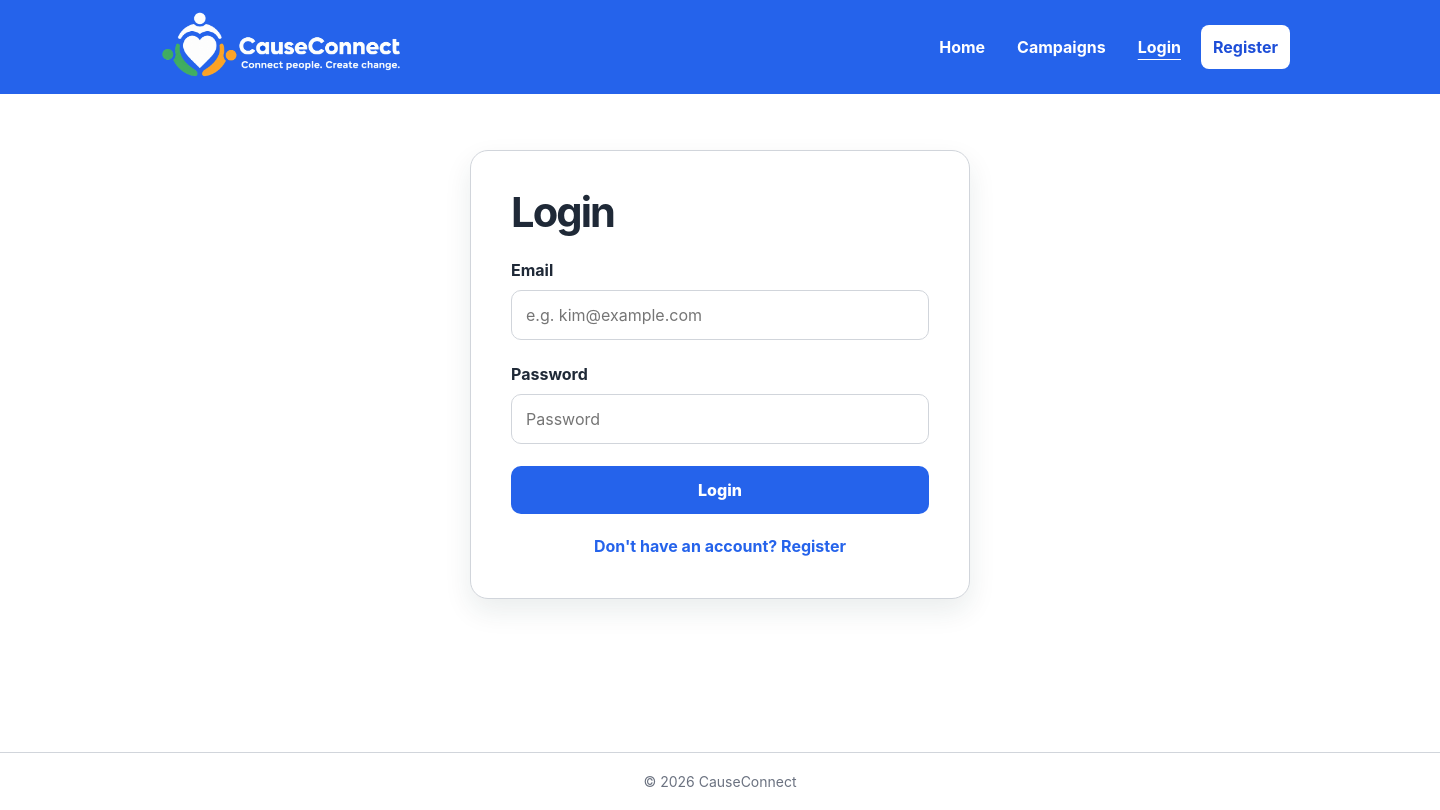
Test: CauseConnect login page › does not restore a delayed guest login after queued cross-tab login and logout changes
This screenshot has width=1440, height=810.
Type "sam@example.test" into the field labelled "Email" at (720, 315), box [511,290,929,340]
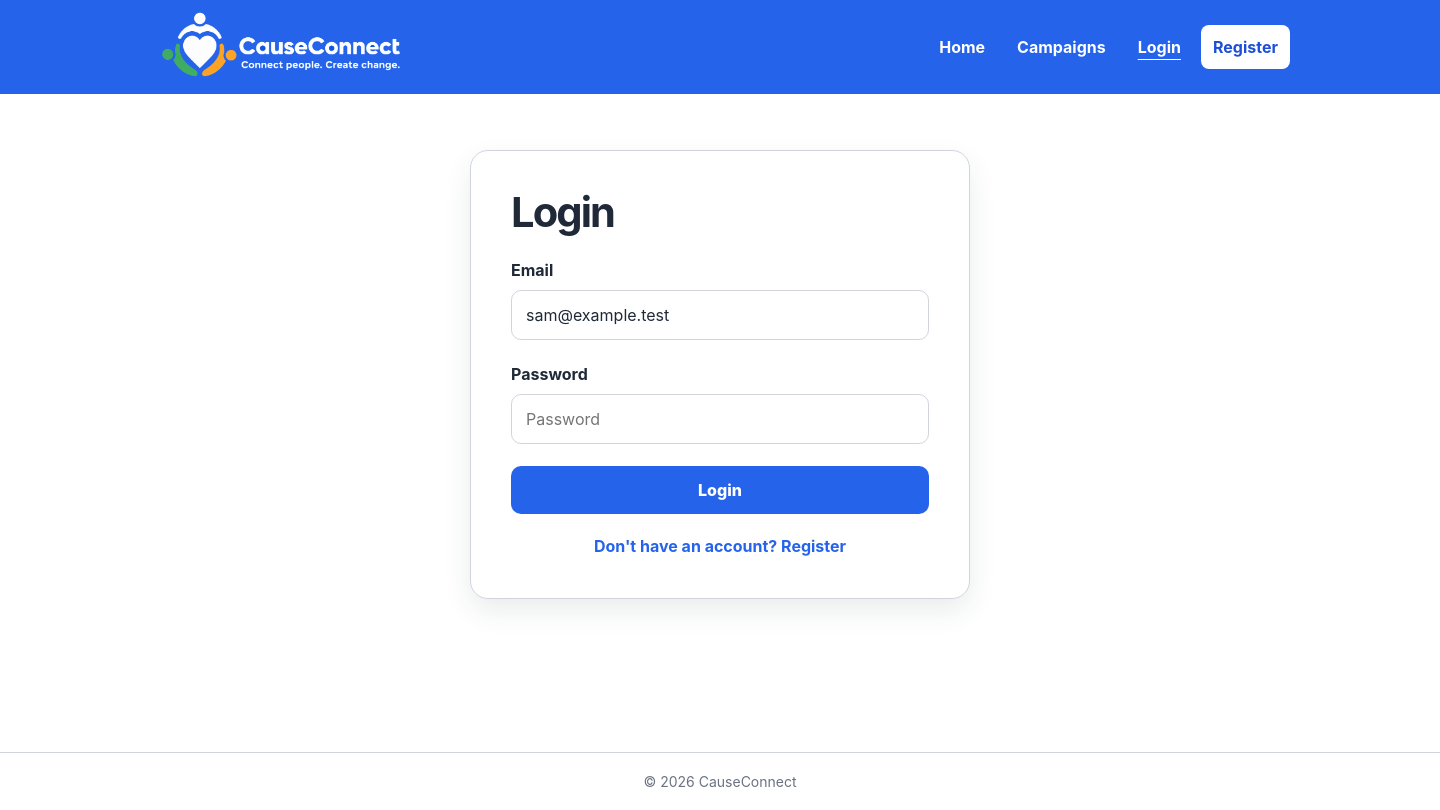
Type "Password123!" into the password field labelled "Password" at (720, 419), box [511,394,929,444]
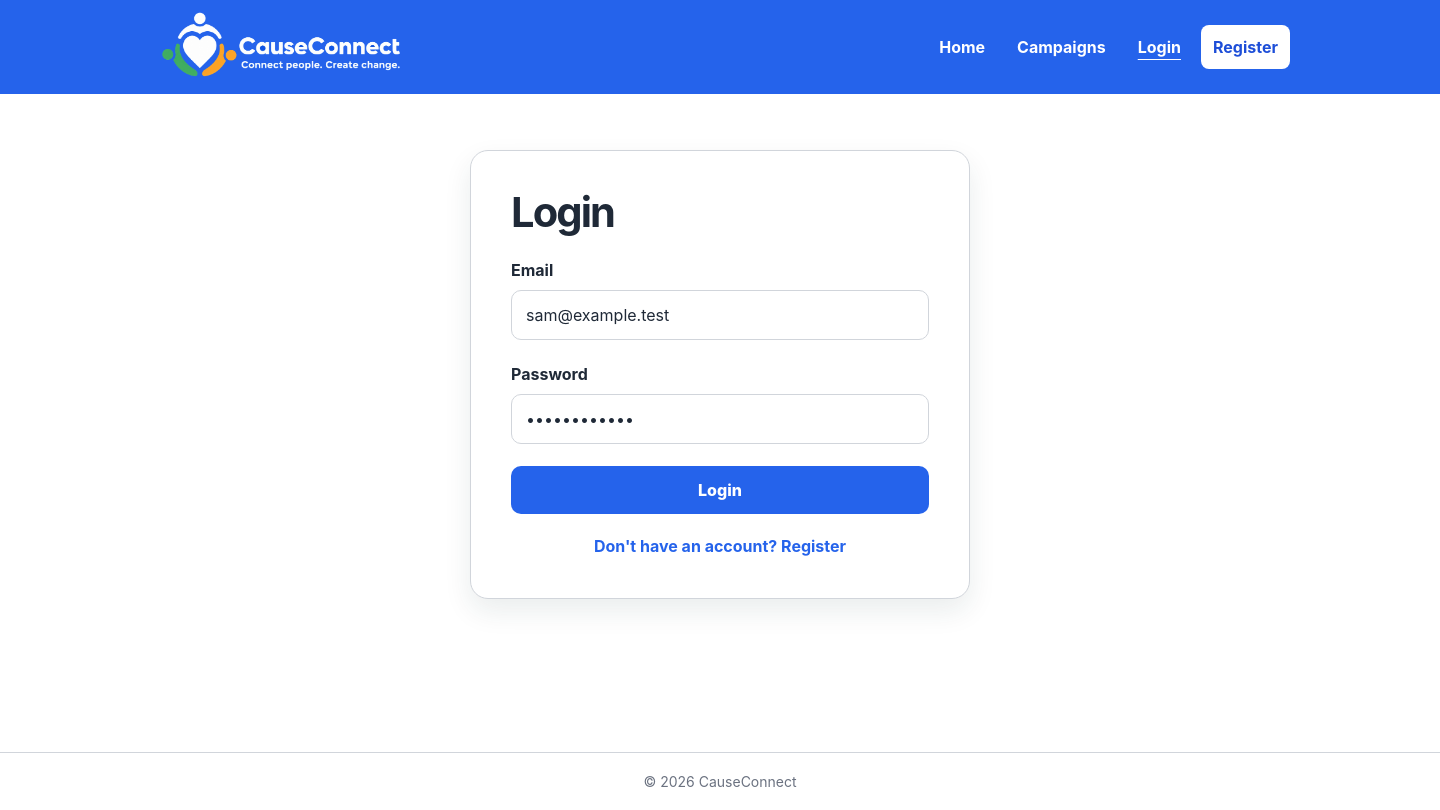
Click the button "Login" at (720, 490), box [511,466,929,514]
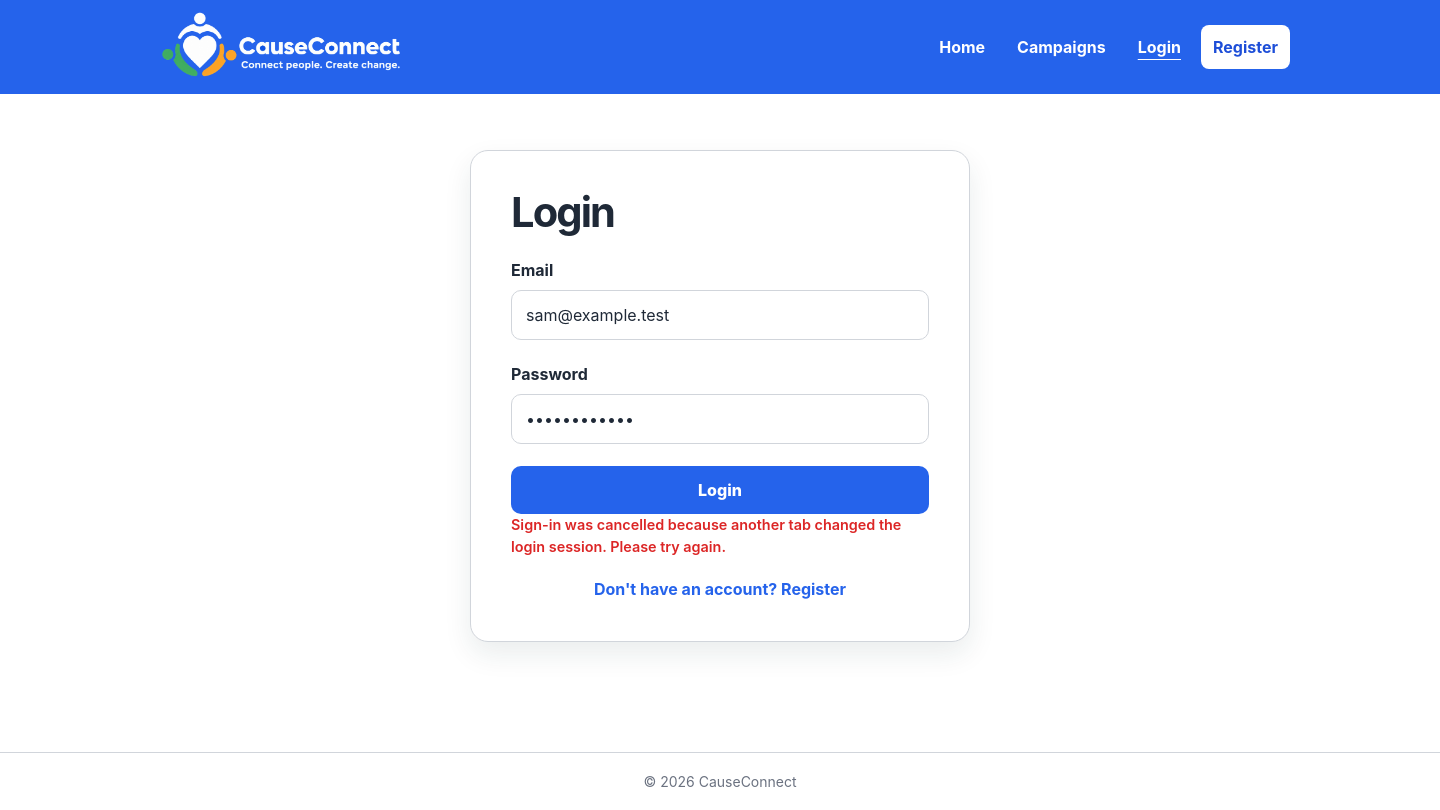
Expected: the message shows "another tab changed the login session", [511,516,901,555]
